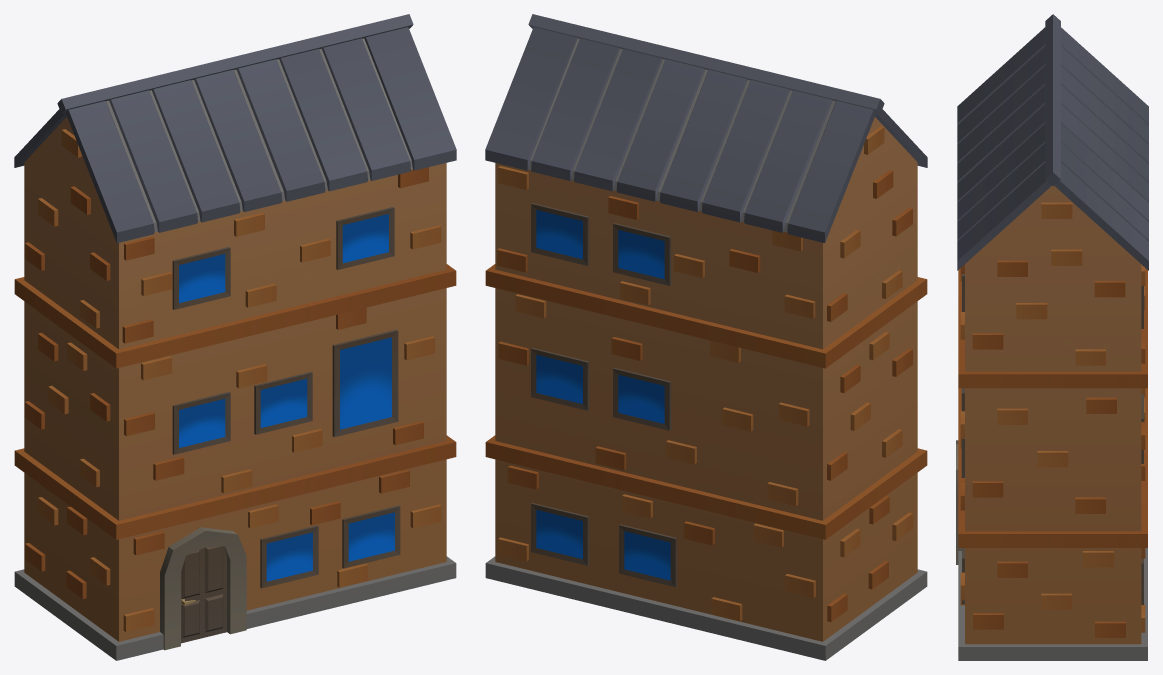
The model's file is SM_House_18.FBX.
The picture shows the model from 3 angles, left to right: view 1: azimuth 30°, elevation 25°; view 2: azimuth 150°, elevation 25°; view 3: azimuth 270°, elevation 25°; orthographic projection. The views are drawn at different scales.
Visible parts, largest first — view 1: SM_House_18; view 2: SM_House_18; view 3: SM_House_18.
Boxes of the visible parts, box(x1,y1,x2,y2) form: SM_House_18: box(14, 14, 456, 660); SM_House_18: box(485, 14, 927, 660); SM_House_18: box(956, 14, 1148, 660).
Size of what is drawn, in the model's own units: 850 by 437 by 1228.
